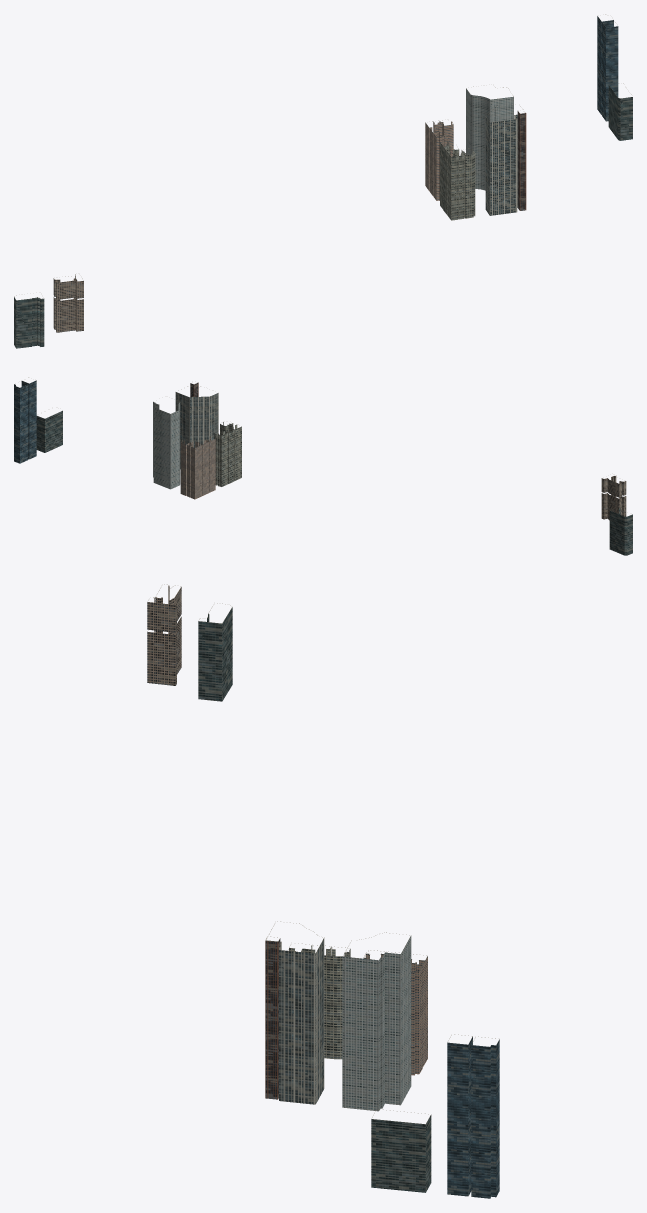
3 views of the same model, one above another, from view 1: azimuth 30°, elevation 25°; view 2: azimuth 150°, elevation 25°; view 3: azimuth 270°, elevation 25° (orthographic). The views are drawn at different scales.
Parts seen in each view (by area): view 1: LimestonePiers, HorizontalLouvers, RecessedBalconies, SilverPrecastOffice, BlueSpandrels, PairedWindows, TerracottaOfficeGrid, ClayFins; view 2: SilverPrecastOffice, TerracottaOfficeGrid, LimestonePiers, HorizontalLouvers, BlueSpandrels, RecessedBalconies, PairedWindows; view 3: SilverPrecastOffice, BlueSpandrels, LimestonePiers, HorizontalLouvers, PairedWindows, ClayFins, RecessedBalconies, TerracottaOfficeGrid.
Part boxes in pixels (bbox=[...]): LimestonePiers: bbox=[485, 107, 517, 215]; HorizontalLouvers: bbox=[14, 85, 632, 348]; RecessedBalconies: bbox=[440, 141, 475, 220]; SilverPrecastOffice: bbox=[466, 88, 513, 190]; BlueSpandrels: bbox=[597, 16, 618, 121]; PairedWindows: bbox=[53, 274, 83, 332]; TerracottaOfficeGrid: bbox=[425, 121, 453, 200]; ClayFins: bbox=[517, 111, 526, 210]; SilverPrecastOffice: bbox=[153, 402, 180, 489]; TerracottaOfficeGrid: bbox=[180, 437, 215, 499]; LimestonePiers: bbox=[175, 392, 218, 468]; HorizontalLouvers: bbox=[36, 410, 632, 555]; BlueSpandrels: bbox=[14, 380, 36, 463]; RecessedBalconies: bbox=[214, 422, 241, 486]; PairedWindows: bbox=[601, 476, 626, 520]; SilverPrecastOffice: bbox=[342, 936, 411, 1111]; BlueSpandrels: bbox=[447, 1037, 499, 1198]; LimestonePiers: bbox=[266, 938, 324, 1104]; HorizontalLouvers: bbox=[198, 607, 431, 1192]; PairedWindows: bbox=[147, 585, 181, 685]; ClayFins: bbox=[265, 938, 280, 1099]; RecessedBalconies: bbox=[289, 945, 350, 1059]; TerracottaOfficeGrid: bbox=[363, 952, 427, 1075].
Bounding box in the file's own units: 1578 × 237 × 438.
Materials: 9 (9 with a texture image).
